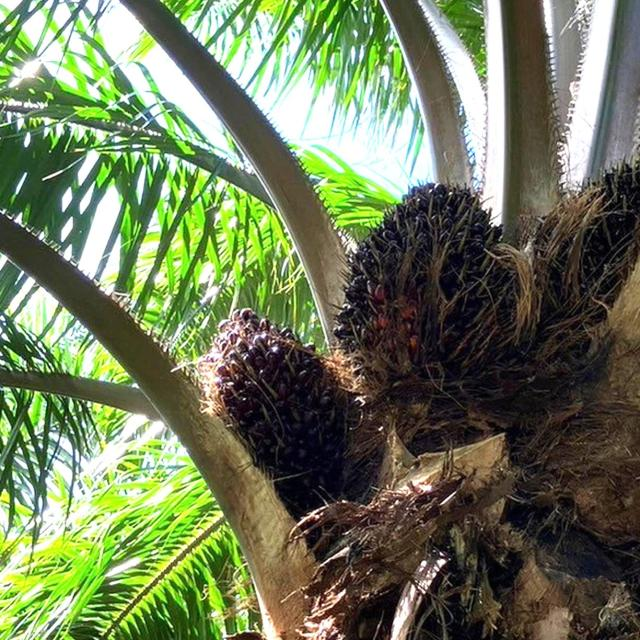ripe: (334, 180, 504, 383), (202, 311, 340, 499)
